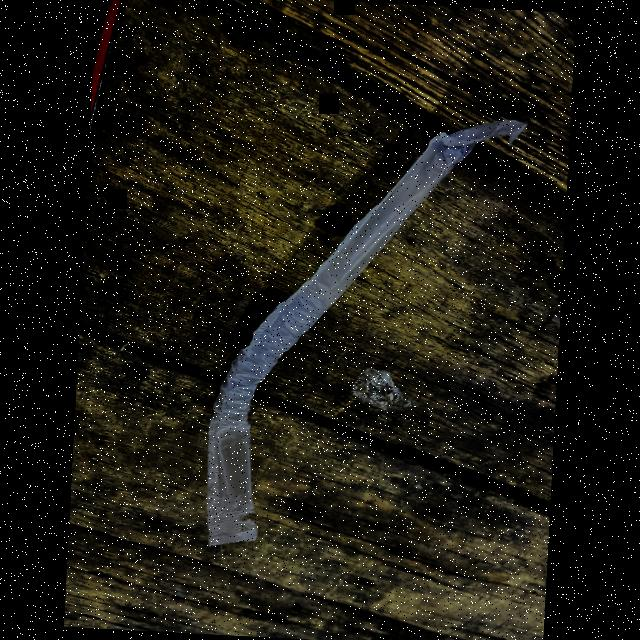scrap_plastic: (203, 108, 537, 573)
